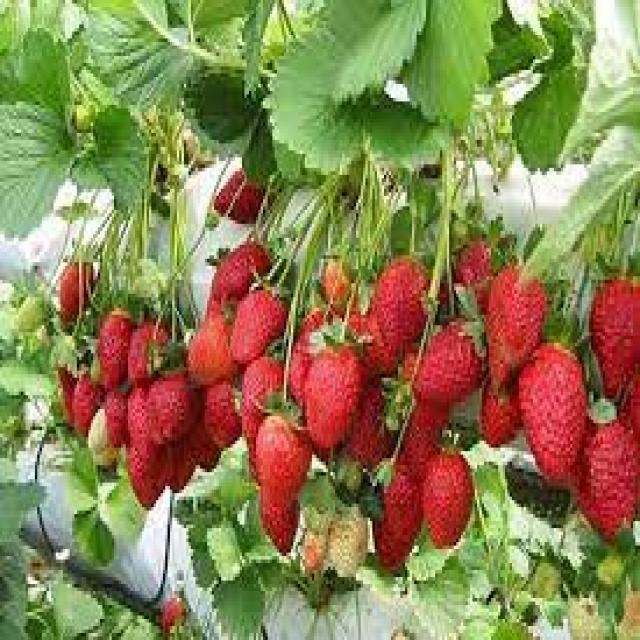Fruta sana: (520, 336, 589, 494), (403, 318, 491, 411), (583, 409, 640, 539), (587, 262, 640, 400), (369, 247, 433, 356), (489, 257, 544, 383), (306, 354, 363, 449), (260, 416, 316, 511), (182, 308, 242, 388), (376, 465, 420, 568), (426, 454, 469, 550), (212, 171, 270, 231), (236, 290, 282, 362), (146, 381, 202, 439), (96, 306, 138, 383), (199, 383, 241, 460), (124, 436, 166, 512), (214, 257, 276, 306), (119, 395, 163, 462), (66, 360, 100, 437), (56, 262, 100, 316)
